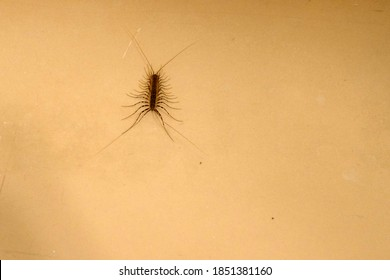centipede: (119, 32, 184, 144)
